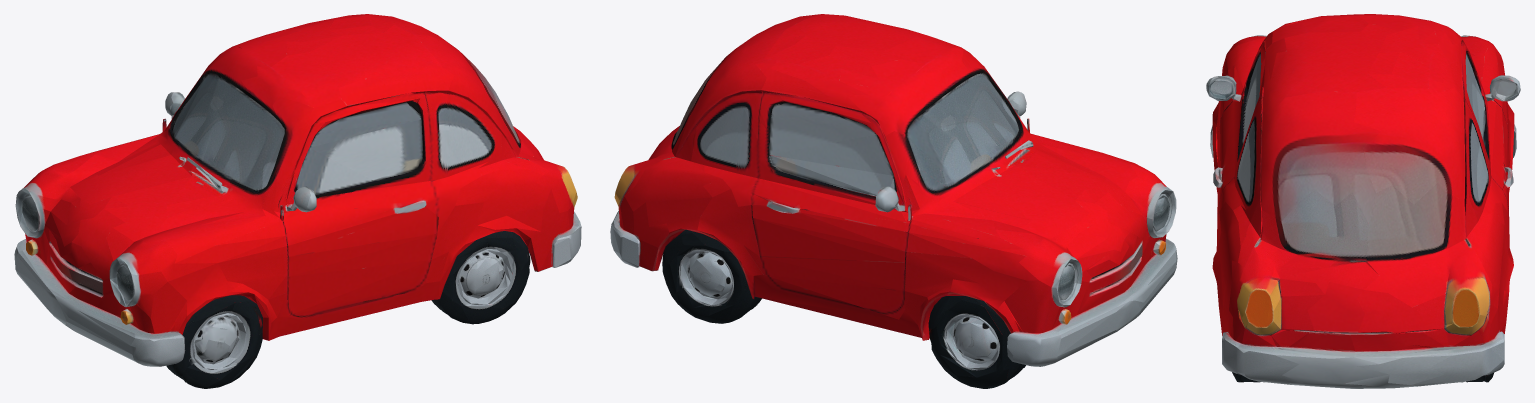
The model's file is car.glb.
3 renders of one model, left to right at view 1: azimuth 30°, elevation 25°; view 2: azimuth 150°, elevation 25°; view 3: azimuth 270°, elevation 25°, orthographic. The views are drawn at different scales.
Bounding box in the file's own units: 1.9 × 0.9644 × 0.9726.
Materials: 1 (1 with a texture image).
